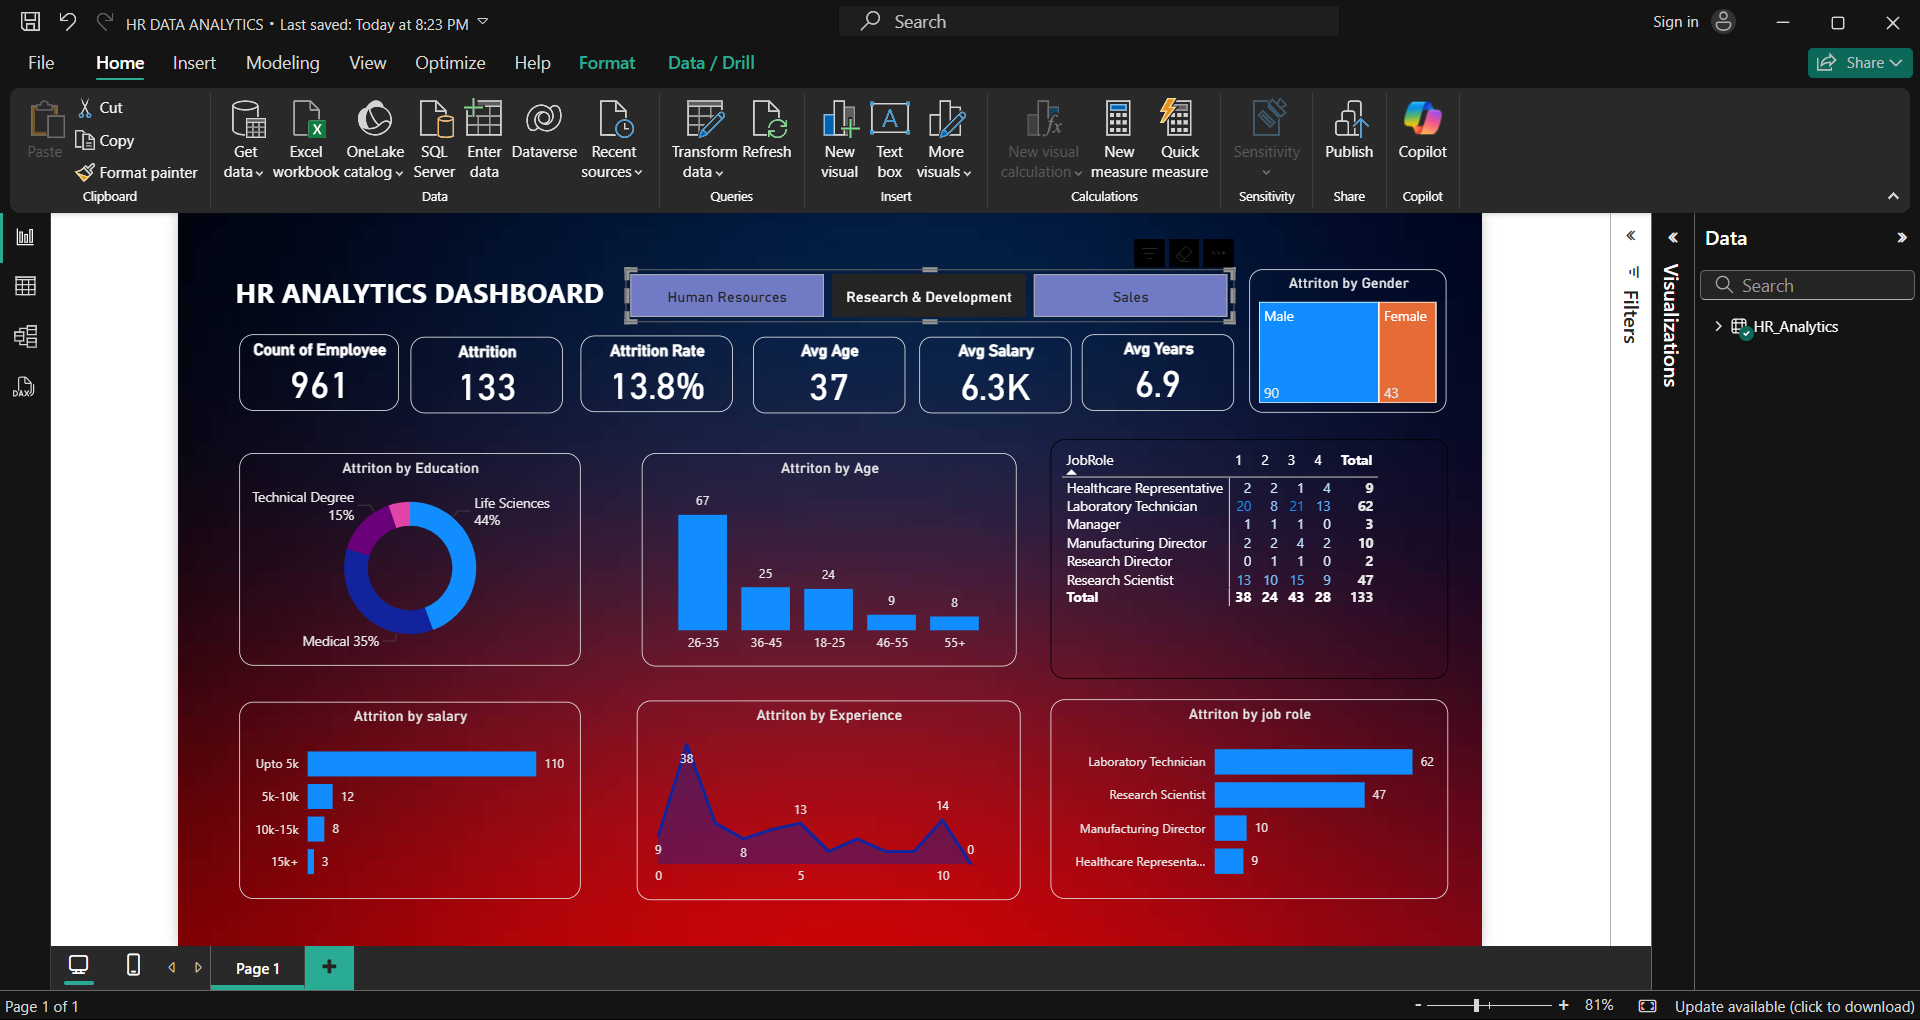

What the dashboard file says about the page in this screenshot:
{"tool":"powerbi","page":{"name":"Page 1","canvas":[1280,720],"ordinal":0},"visuals":[{"type":"card","title":"Count of Employee","fields":{"Values":["CountNonNull(HR_Analytics.EmpID)"]},"box":[60.1,119,157.1,74.8],"z":0},{"type":"card","title":"Attrition","fields":{"Values":["Sum(HR_Analytics.AttritionCount)"]},"box":[228.2,121.5,149.7,74.8],"z":1000},{"type":"card","title":"Attrition Rate","fields":{"Values":["HR_Analytics.AttritionRate"]},"box":[395.1,120.2,149.7,74.8],"z":2000},{"type":"card","title":"Avg Age","fields":{"Values":["Avg(HR_Analytics.Age)"]},"box":[564.4,121.5,149.7,74.8],"z":3000},{"type":"card","title":"Avg Salary","fields":{"Values":["Avg(HR_Analytics.MonthlyIncome)"]},"box":[727.6,121.5,149.7,74.8],"z":4000},{"type":"card","title":"Avg Years","fields":{"Values":["Avg(HR_Analytics.YearsAtCompany)"]},"box":[887.1,119,149.7,74.8],"z":5000},{"type":"donutChart","title":"Attriton by Education","fields":{"Category":["HR_Analytics.EducationField"],"Y":["Sum(HR_Analytics.AttritionCount)"]},"box":[60.1,235.6,335,208.6],"z":6000},{"type":"columnChart","title":"Attriton by Age","fields":{"Category":["HR_Analytics.AgeGroup"],"Y":["Sum(HR_Analytics.AttritionCount)"]},"box":[455.2,235.6,368.1,209.8],"z":7000},{"type":"pivotTable","fields":{"Rows":["HR_Analytics.JobRole"],"Columns":["HR_Analytics.JobSatisfaction"],"Values":["Sum(HR_Analytics.AttritionCount)"]},"box":[856.4,222.1,390.2,235.6],"z":8000},{"type":"barChart","title":"Attriton by salary","fields":{"Category":["HR_Analytics.SalarySlab"],"Y":["Sum(HR_Analytics.AttritionCount)"]},"box":[60.1,479.8,335,193.9],"z":9000},{"type":"barChart","title":"Attriton by job role","fields":{"Category":["HR_Analytics.JobRole"],"Y":["Sum(HR_Analytics.AttritionCount)"]},"box":[856.4,477.3,390.2,196.3],"z":10000},{"type":"areaChart","title":"Attriton by Experience","fields":{"Category":["HR_Analytics.YearsAtCompany"],"Y":["Sum(HR_Analytics.AttritionCount)"]},"box":[450.3,478.5,376.7,196.3],"z":11000},{"type":"treemap","title":"Attriton by Gender","fields":{"Group":["HR_Analytics.Gender"],"Values":["Sum(HR_Analytics.AttritionCount)"]},"box":[1051.5,55.2,193.9,141.1],"z":12000},{"type":"advancedSlicerVisual","fields":{"Values":["HR_Analytics.Department"]},"box":[439.3,55.2,597.5,52.8],"z":13000},{"type":"textbox","box":[51.5,55.2,387.7,52.8],"z":14000}]}

Visuals, with their boxes on the page's 1280x720 design canvas (x1, y1, x2, y2). These are canvas units, not pixel positions in the 1920x1020 screenshot, which may show the page scaled, cropped or inside an application window:
"Count of Employee" card: l=60, t=119, r=217, b=194
"Attrition" card: l=228, t=122, r=378, b=196
"Attrition Rate" card: l=395, t=120, r=545, b=195
"Avg Age" card: l=564, t=122, r=714, b=196
"Avg Salary" card: l=728, t=122, r=877, b=196
"Avg Years" card: l=887, t=119, r=1037, b=194
"Attriton by Education" donutChart: l=60, t=236, r=395, b=444
"Attriton by Age" columnChart: l=455, t=236, r=823, b=445
pivotTable - HR_Analytics.JobRole x HR_Analytics.JobSatisfaction: l=856, t=222, r=1247, b=458
"Attriton by salary" barChart: l=60, t=480, r=395, b=674
"Attriton by job role" barChart: l=856, t=477, r=1247, b=674
"Attriton by Experience" areaChart: l=450, t=478, r=827, b=675
"Attriton by Gender" treemap: l=1052, t=55, r=1245, b=196
advancedSlicerVisual - HR_Analytics.Department: l=439, t=55, r=1037, b=108
textbox: l=52, t=55, r=439, b=108
